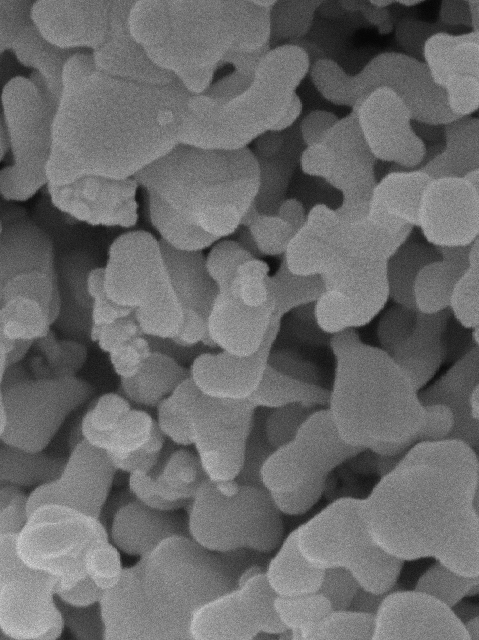nano: (151, 105, 178, 130), (79, 179, 104, 201)
